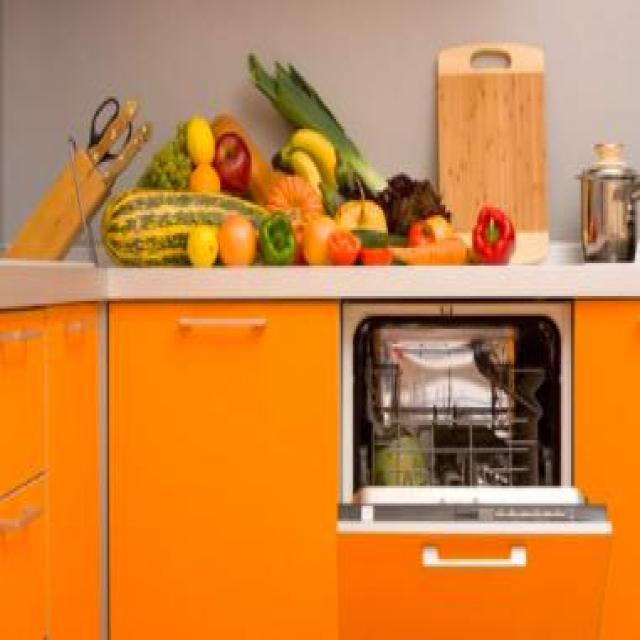dishwasher: (332, 294, 604, 638)
